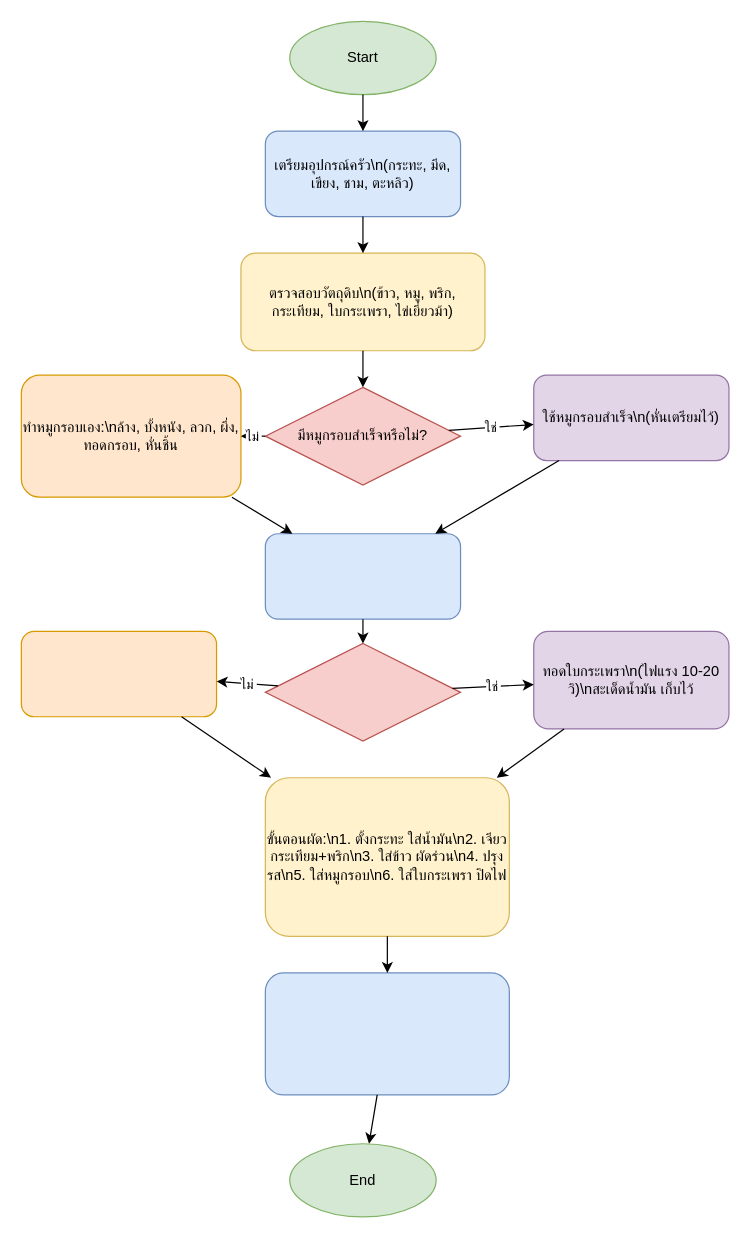
Image size: 750x1238. Some labels were removed from this diagram. The shapes that lost their labels are listed below. From the top down, each one's box as (x1, y1, x2, y2) in pixels, then its label:
(264, 533, 461, 619): เตรียมส่วนผัด\n(ข้าว, พริก, กระเทียม, ใบกระเพรา)
(20, 630, 217, 717): ใช้ใบกระเพราสดตอนผัด
(264, 642, 461, 741): ทอดกระเพรากรอบไหม?
(264, 972, 509, 1095): จัดจาน:\nตักข้าวผัดใส่จาน\nวางหมูกรอบ+ไข่เยี่ยวม้า\nโรยกระเพรากรอบ (ถ้ามี)
